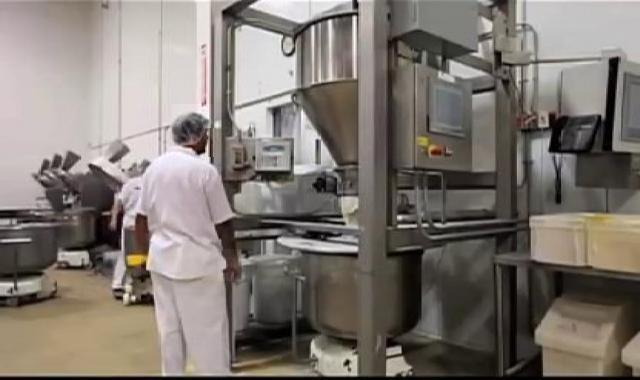gloves: (172, 105, 213, 154)
no_apron: (218, 250, 246, 282)
no_hairnet: (198, 129, 217, 158)
